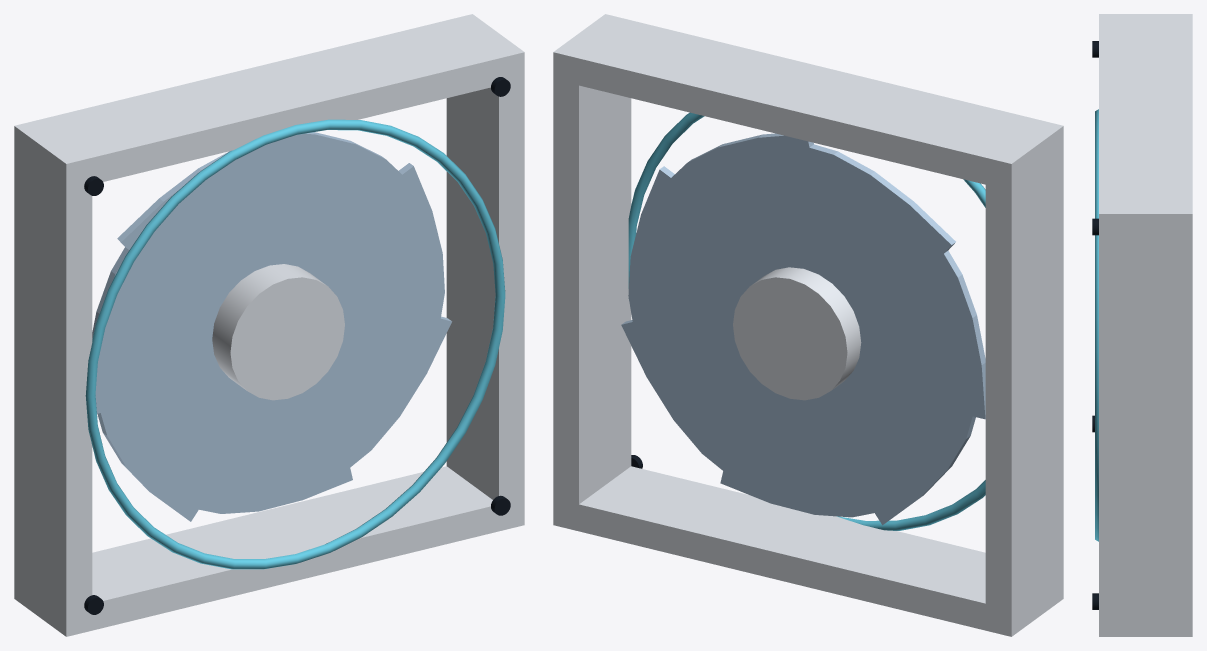
File: retail-lian-li-uni-fan-tl-140-reverse-blade-wireless-white.glb
3 renders of one model, left to right at view 1: azimuth 30°, elevation 25°; view 2: azimuth 150°, elevation 25°; view 3: azimuth 270°, elevation 25°, orthographic. The views are drawn at different scales.
Parts seen in each view (by area): view 1: Frame edge (×4), Blade (×7), Intake rim, Motor hub; view 2: Frame edge (×4), Blade (×7), Motor hub, Intake rim; view 3: Frame edge (×3), Intake rim.
Boxes of the visible parts, <box> form: Frame edge (×4): <box>14,14,524,636</box>; Blade (×7): <box>92,132,451,521</box>; Intake rim: <box>85,119,505,569</box>; Motor hub: <box>212,264,344,400</box>; Frame edge (×4): <box>553,14,1063,636</box>; Blade (×7): <box>621,133,985,525</box>; Motor hub: <box>733,267,861,400</box>; Intake rim: <box>628,112,985,530</box>; Frame edge (×3): <box>1099,14,1192,636</box>; Intake rim: <box>1095,109,1098,541</box>.
Size of the model in its own units: 0.142 by 0.14 by 0.03.
